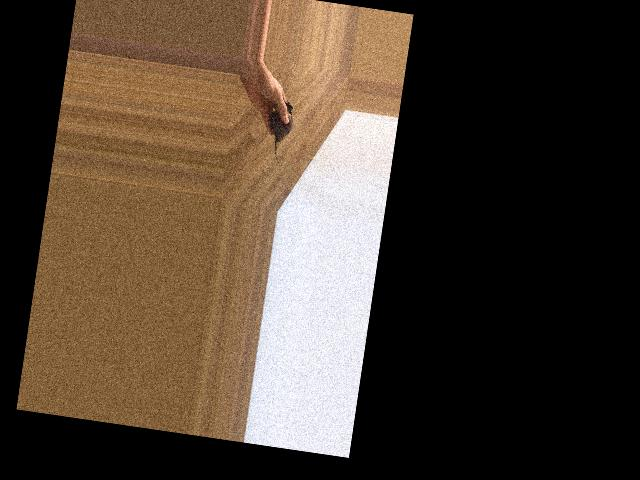beet: (264, 99, 295, 165)
